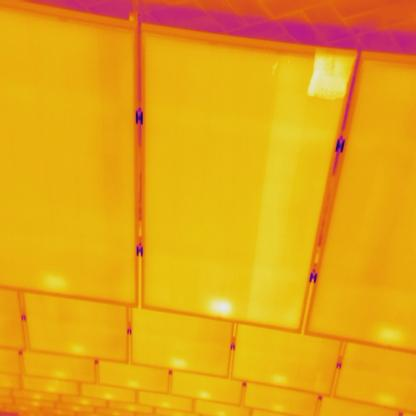hotspot: (306, 48, 358, 101), (206, 294, 233, 322)
